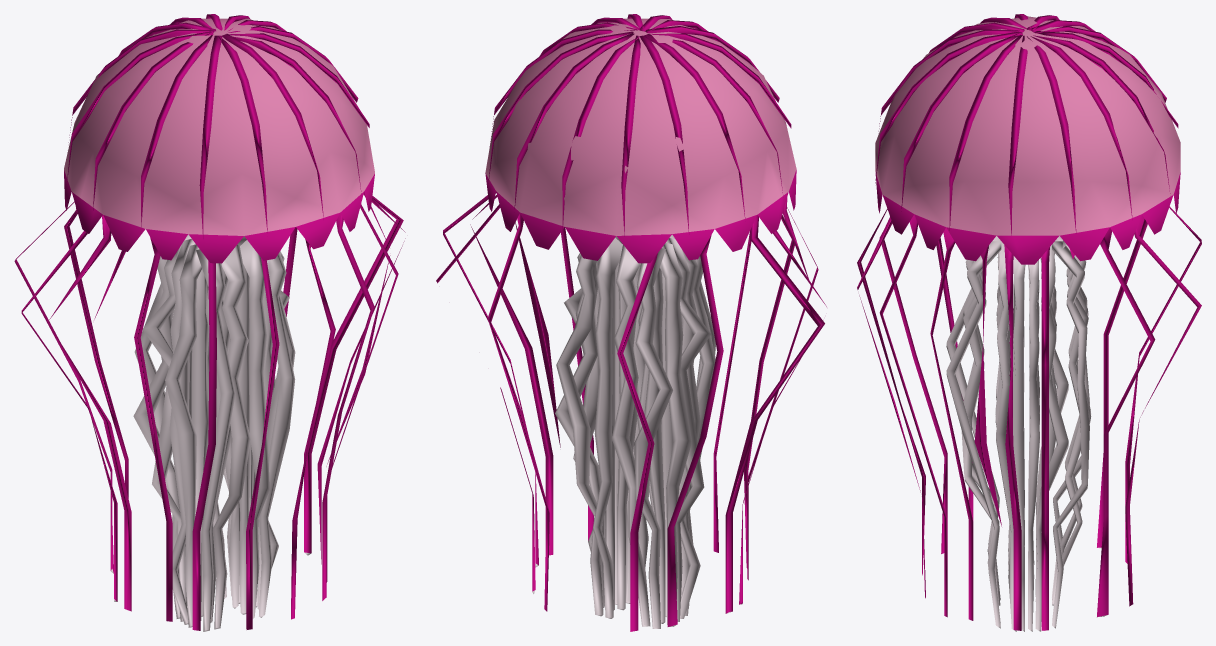
Rendered from medusa.glb.
3 views of the same model, side by side, from view 1: azimuth 30°, elevation 25°; view 2: azimuth 150°, elevation 25°; view 3: azimuth 270°, elevation 25° (orthographic).
Parts seen in each view (by area): view 1: char; view 2: char; view 3: char.
Boxes of the visible parts, left/top/right/bottom form: char: left=14, top=14, right=405, bottom=631; char: left=436, top=14, right=826, bottom=631; char: left=857, top=14, right=1201, bottom=631.
Size of the model in its own units: 283 by 411 by 221.
